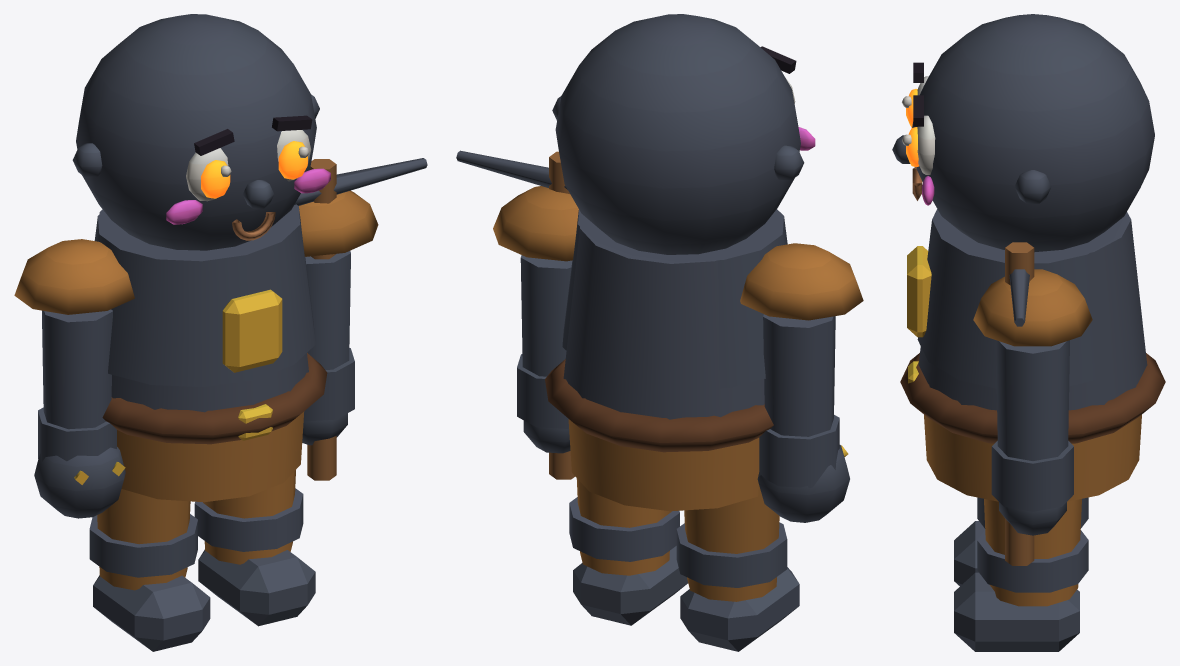
Rendered from hero_rusty.glb.
3 renders of one model, left to right at view 1: azimuth 30°, elevation 25°; view 2: azimuth 150°, elevation 25°; view 3: azimuth 270°, elevation 25°, orthographic.
Visible parts, largest first — view 1: body_t0_palette, arml_t0_palette, armr_t0_palette, legl_t0_palette, legr_t0_palette, body_t0_fire; view 2: body_t0_palette, arml_t0_palette, armr_t0_palette, legl_t0_palette, legr_t0_palette; view 3: body_t0_palette, armr_t0_palette, legr_t0_palette, legl_t0_palette, body_t0_fire.
Part boxes in pixels (left/top/right/bottom): body_t0_palette: left=72, top=14, right=330, bottom=502; arml_t0_palette: left=14, top=239, right=134, bottom=518; armr_t0_palette: left=294, top=158, right=427, bottom=480; legl_t0_palette: left=89, top=489, right=210, bottom=651; legr_t0_palette: left=194, top=470, right=315, bottom=626; body_t0_fire: left=201, top=141, right=307, bottom=198; body_t0_palette: left=545, top=14, right=815, bottom=511; arml_t0_palette: left=740, top=243, right=863, bottom=522; armr_t0_palette: left=456, top=150, right=578, bottom=479; legl_t0_palette: left=676, top=484, right=799, bottom=651; legr_t0_palette: left=569, top=478, right=687, bottom=625; body_t0_palette: left=892, top=14, right=1165, bottom=501; armr_t0_palette: left=973, top=242, right=1092, bottom=565; legr_t0_palette: left=954, top=499, right=1088, bottom=651; legl_t0_palette: left=954, top=497, right=1088, bottom=585; body_t0_fire: left=906, top=89, right=918, bottom=167.
Bounding box in the file's own units: 0.3451 × 0.492 × 0.206.
